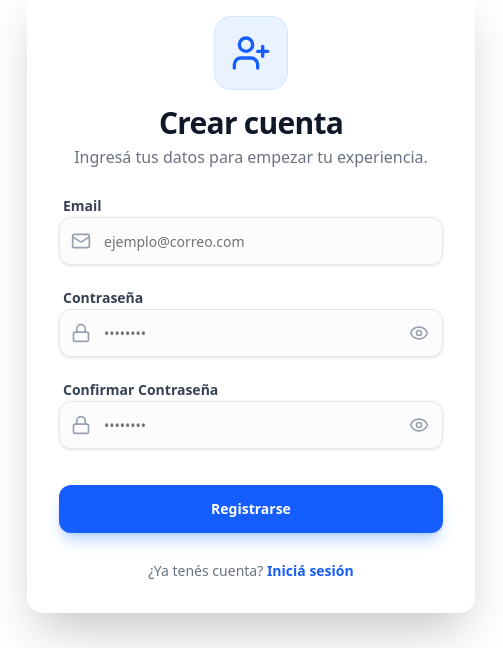
Test: Register Page › displays server error for unexpected errors
Type "test@test.com" into the field labelled "Email" at {"x": 251, "y": 241}, box [59,217,443,265]
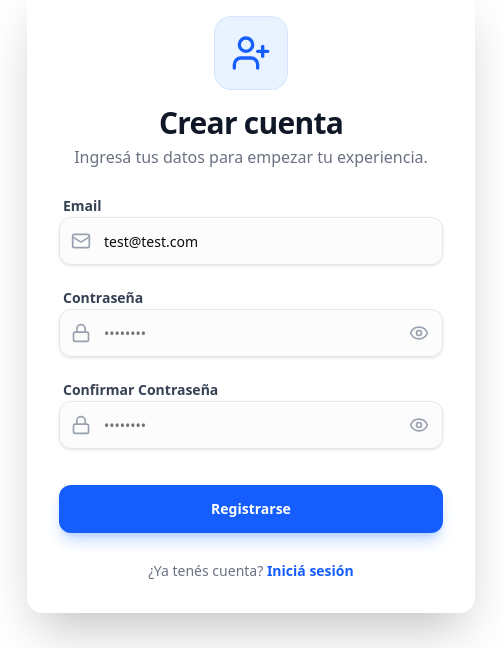
Type "Password123!" into the password field labelled "Contraseña" at {"x": 251, "y": 333}, box [59,309,443,357]
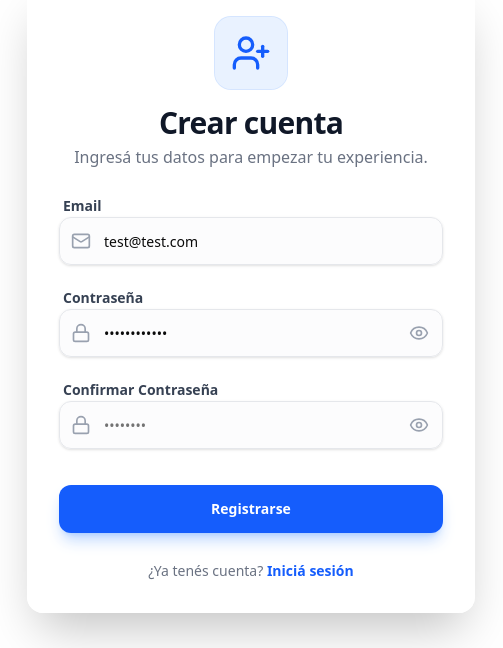
Type "Password123!" into the password field labelled "Confirmar Contraseña" at {"x": 251, "y": 425}, box [59,401,443,449]
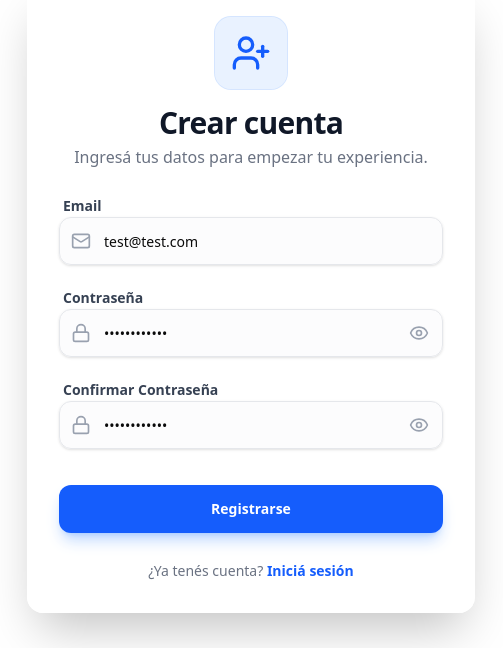
Click the button "Registrarse" at {"x": 251, "y": 509}, box [59,485,443,533]
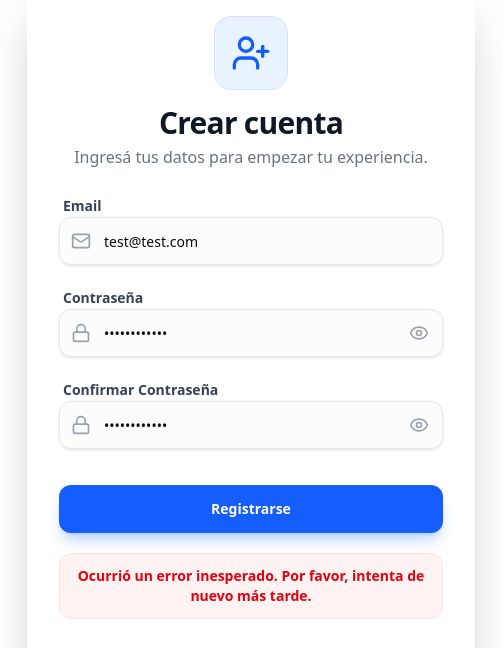
expect the text "Ocurrió un error inesperado" is shown: met, box [78,566,424,605]
